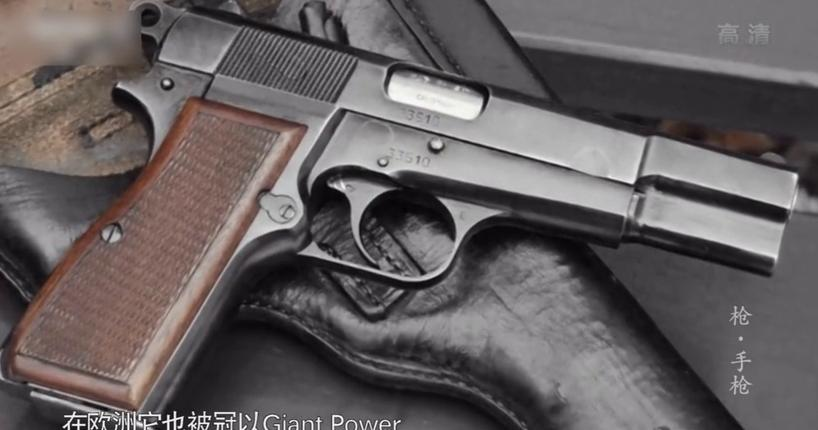gun: (1, 1, 818, 430)
